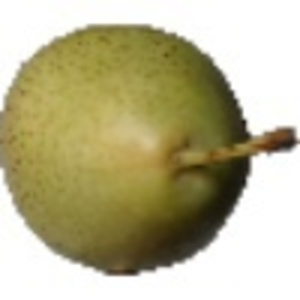pera: (1, 14, 300, 278)
